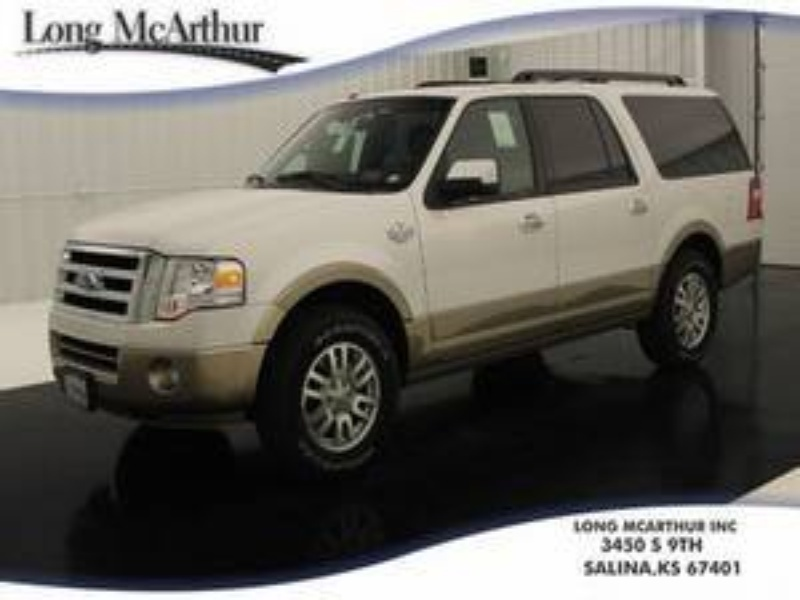normalcar: (76, 63, 773, 443)
